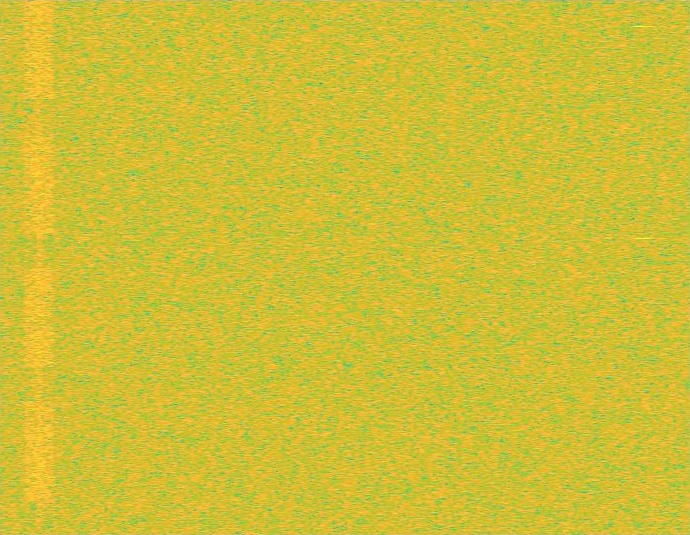5G: (22, 0, 56, 534)
DSSS: (35, 0, 43, 534)
Radar: (636, 0, 650, 534)
